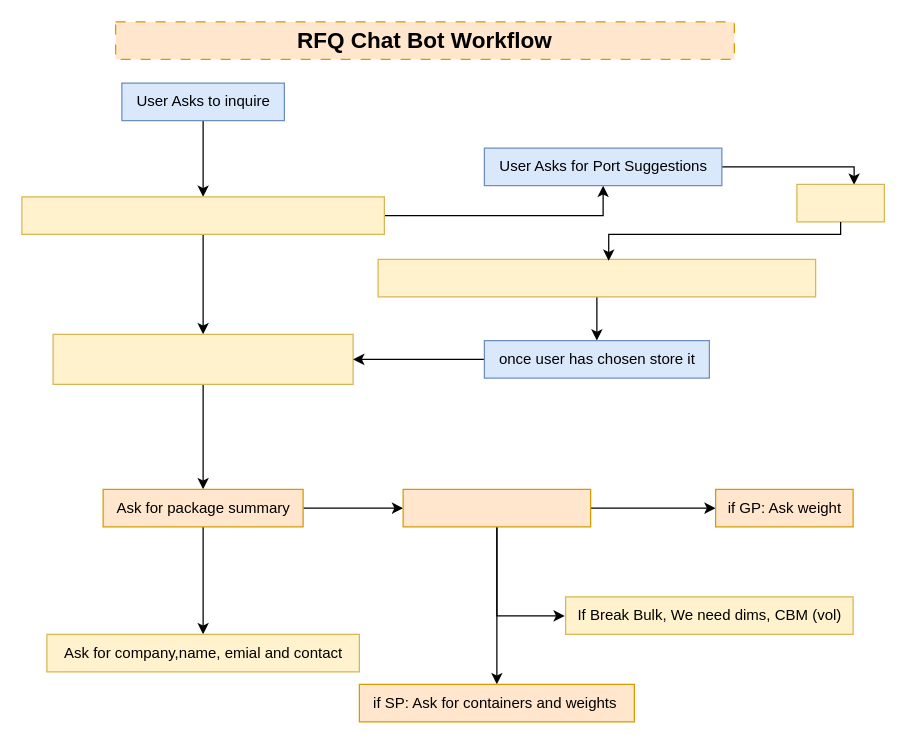
The diagram is 906 pixels wide and 744 high, and some of its shapes have lost their labels. The shapes that lost their labels are listed below. From the top down, each one's centre as x and y in pixels, then its label:
the point at 202,215: Ask what for pol,pod,delivery and pickup address.
the point at 840,202: Call API
the point at 596,277: if api returns some ports, give them to user and ask to choose
the point at 202,358: If all details are provided, ask for company, name email and phone
the point at 496,507: Ask for container Type,
